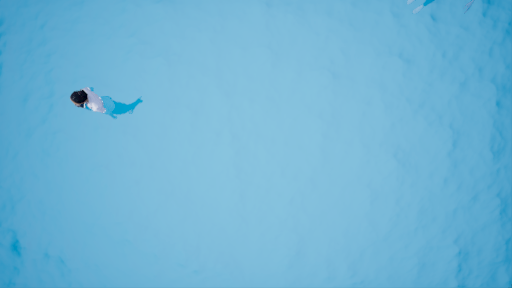person: (66, 84, 150, 120)
